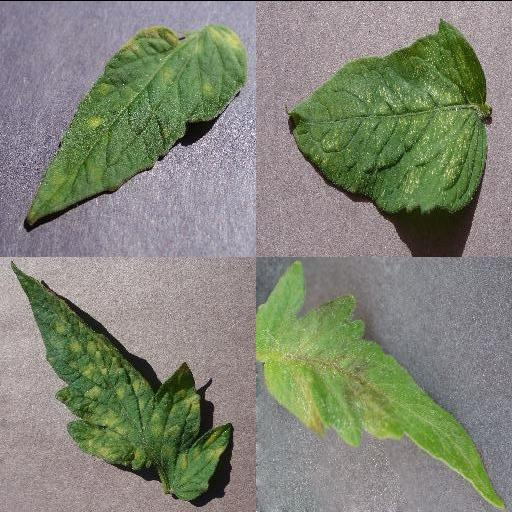Late Blight: (256, 258, 504, 512)
Leaf Mold: (12, 263, 236, 498), (24, 24, 248, 226)
Spider Mites: (286, 18, 490, 212)
